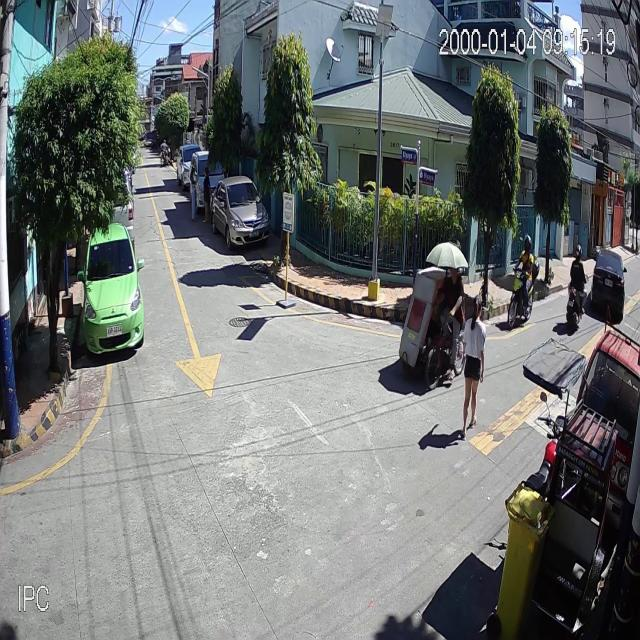standing: (188, 166, 201, 221), (202, 166, 213, 223), (160, 139, 168, 165)
walking: (460, 296, 488, 442)
